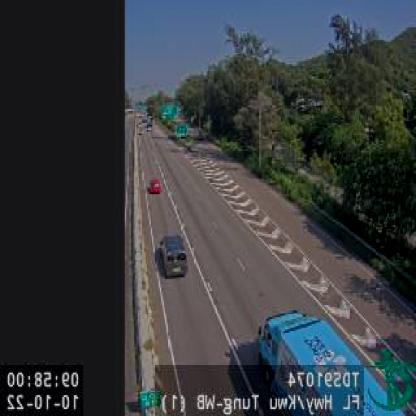Car: (158, 233, 188, 277), (146, 176, 160, 193)
Truck: (256, 310, 412, 416)
